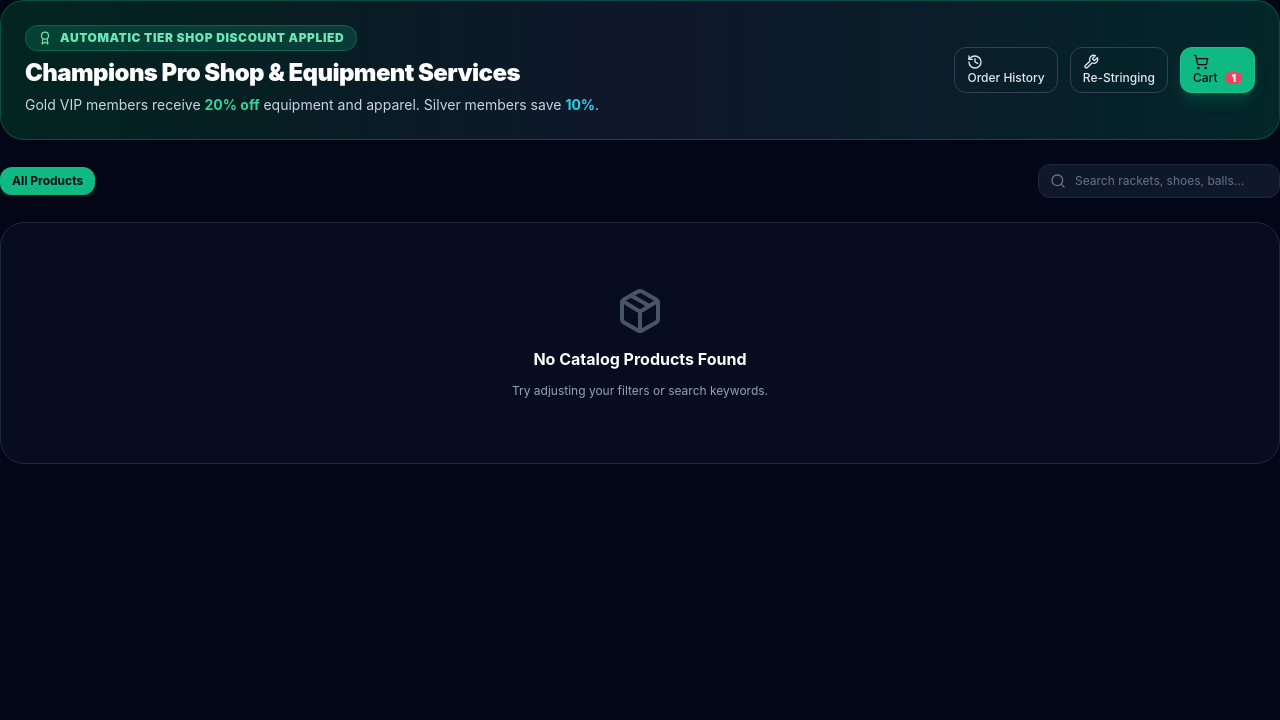
Test: Shop Orders Module Frontend Suite (PROMPT 9) › opens checkout modal and validates delivery address and pincode
Expected: the text "1" is shown, x1=1226 y1=72 x2=1242 y2=84
Step 1. Click the button with test id "open-cart-btn" → coordinates (1217, 70), box x1=1180 y1=47 x2=1255 y2=93
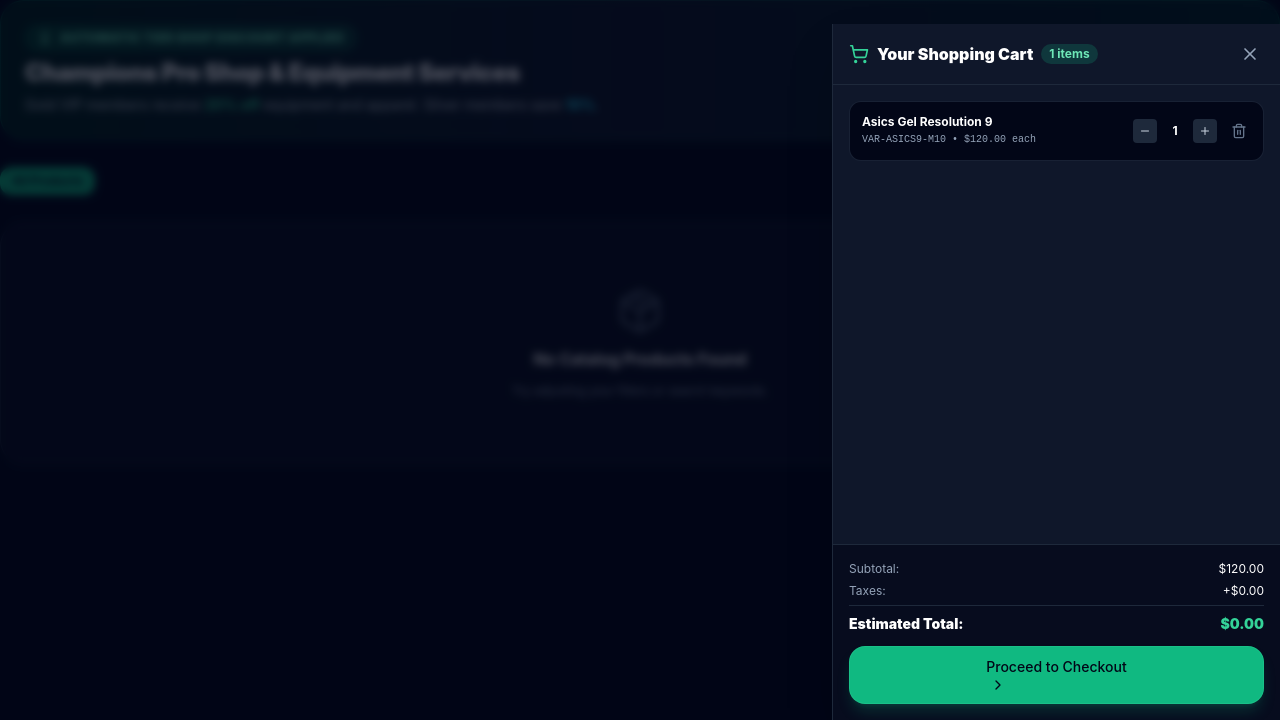
Step 2. Click the button with test id "proceed-to-checkout-btn" → coordinates (1056, 675), box x1=849 y1=646 x2=1264 y2=704
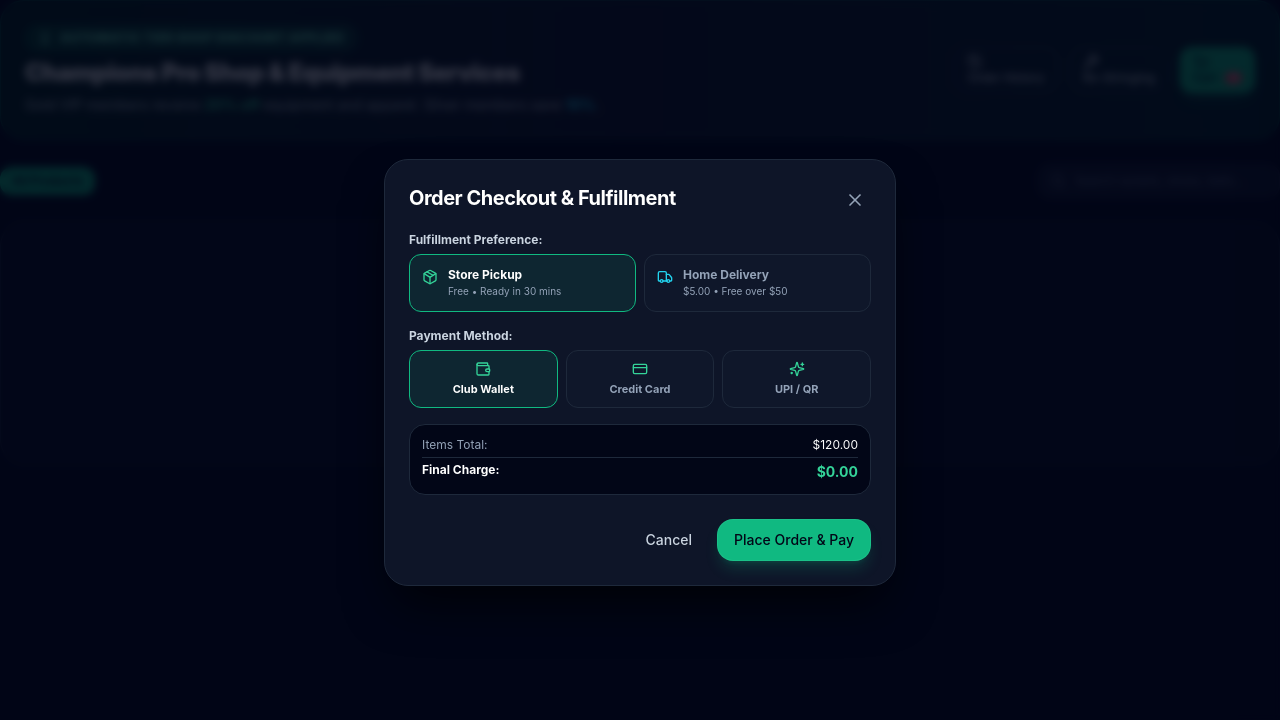
Result: the heading "Order Checkout & Fulfillment" is shown at x1=409 y1=184 x2=676 y2=212
// Switch to Home Delivery
Step 3. Click the button "Home Delivery $5.00 • Free over $50" → coordinates (758, 282), box x1=644 y1=254 x2=871 y2=312
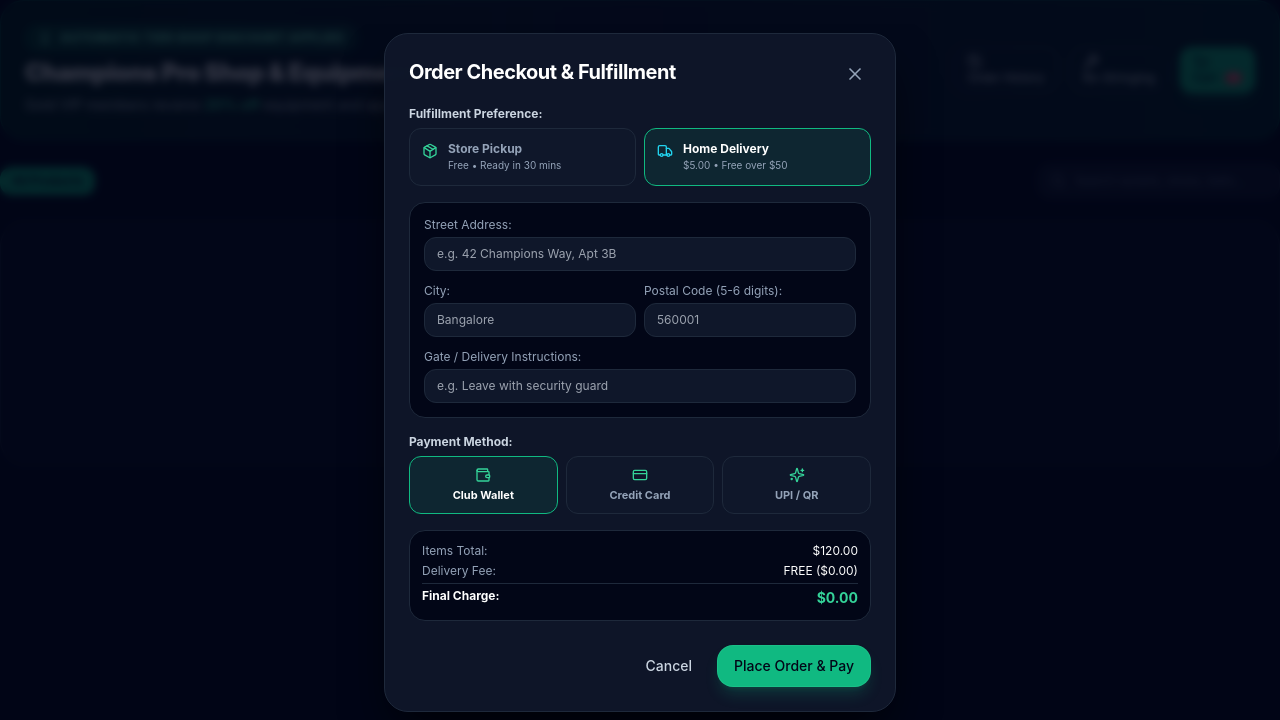
// Fill address, city, and invalid pincode
Step 4. Type "123 Court St" into the field with test id "delivery-address-input" → coordinates (640, 254), box x1=424 y1=236 x2=856 y2=270
Step 5. Type "Metropolis" into the field with test id "delivery-city-input" → coordinates (530, 320), box x1=424 y1=302 x2=636 y2=336
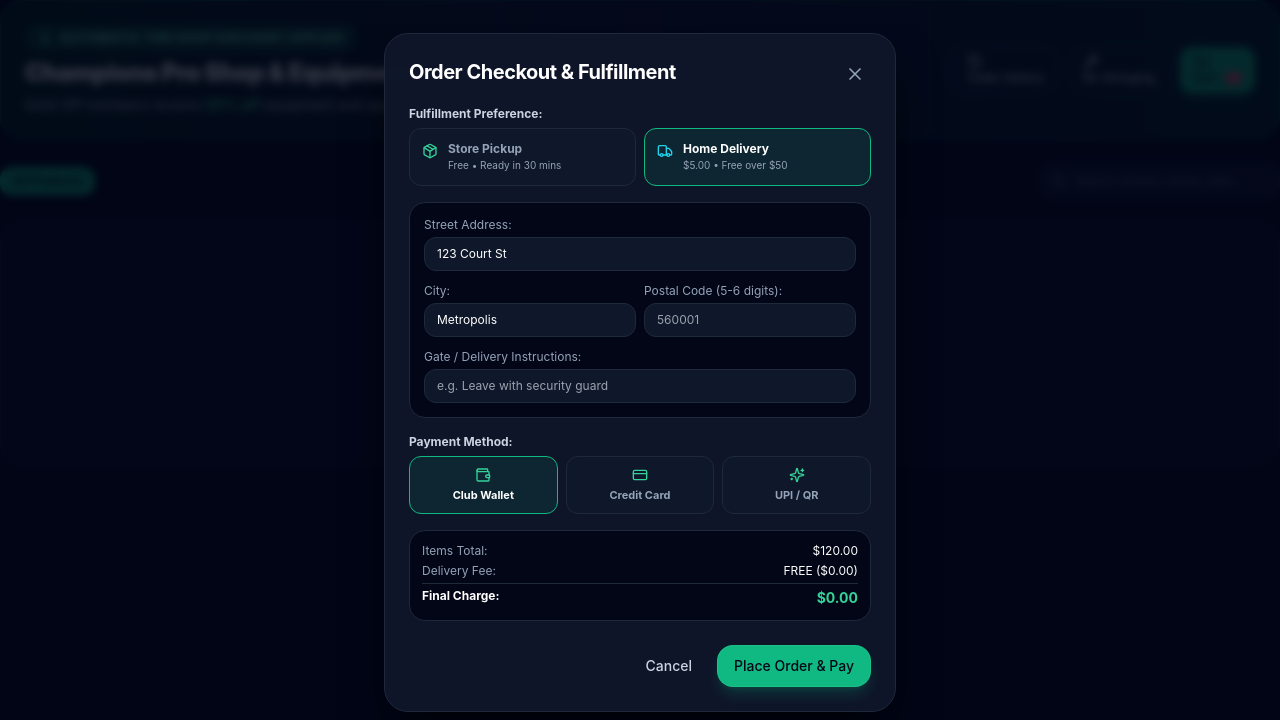
Step 6. Type "123" into the field with test id "delivery-pincode-input" → coordinates (750, 320), box x1=644 y1=302 x2=856 y2=336
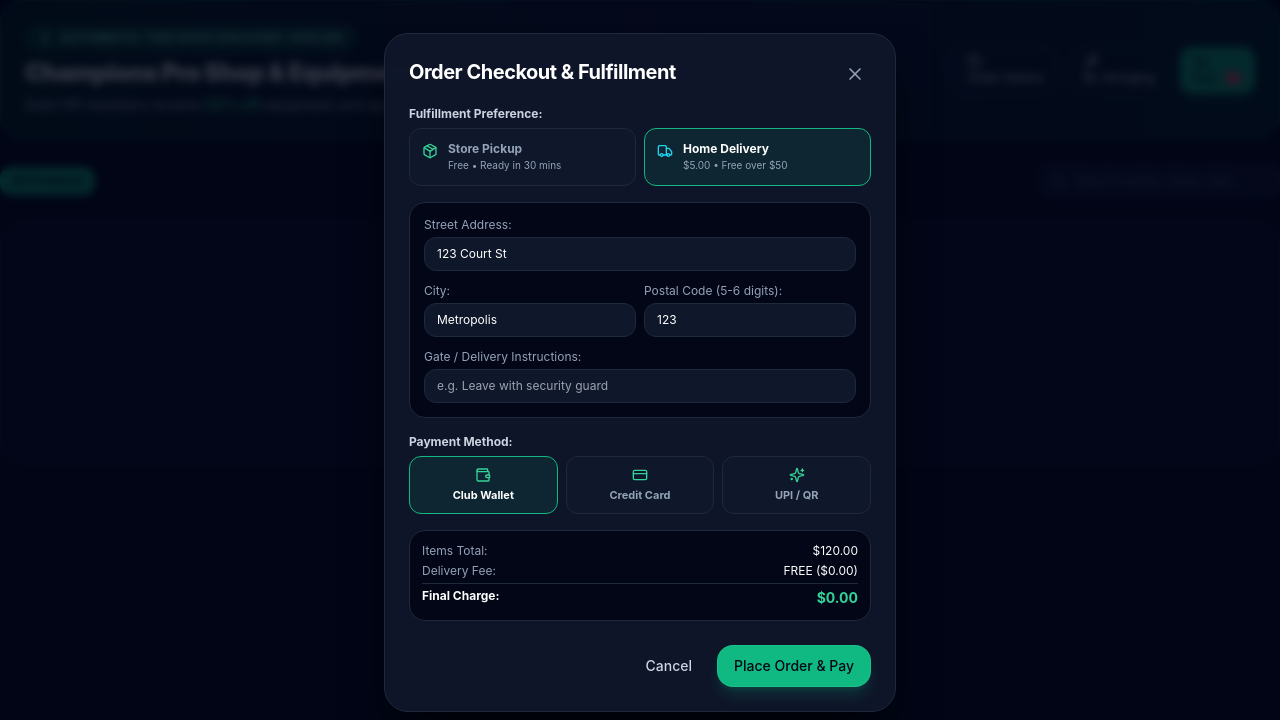
// Submit checkout
Step 7. Click the button with test id "confirm-checkout-btn" → coordinates (794, 666), box x1=717 y1=644 x2=871 y2=686
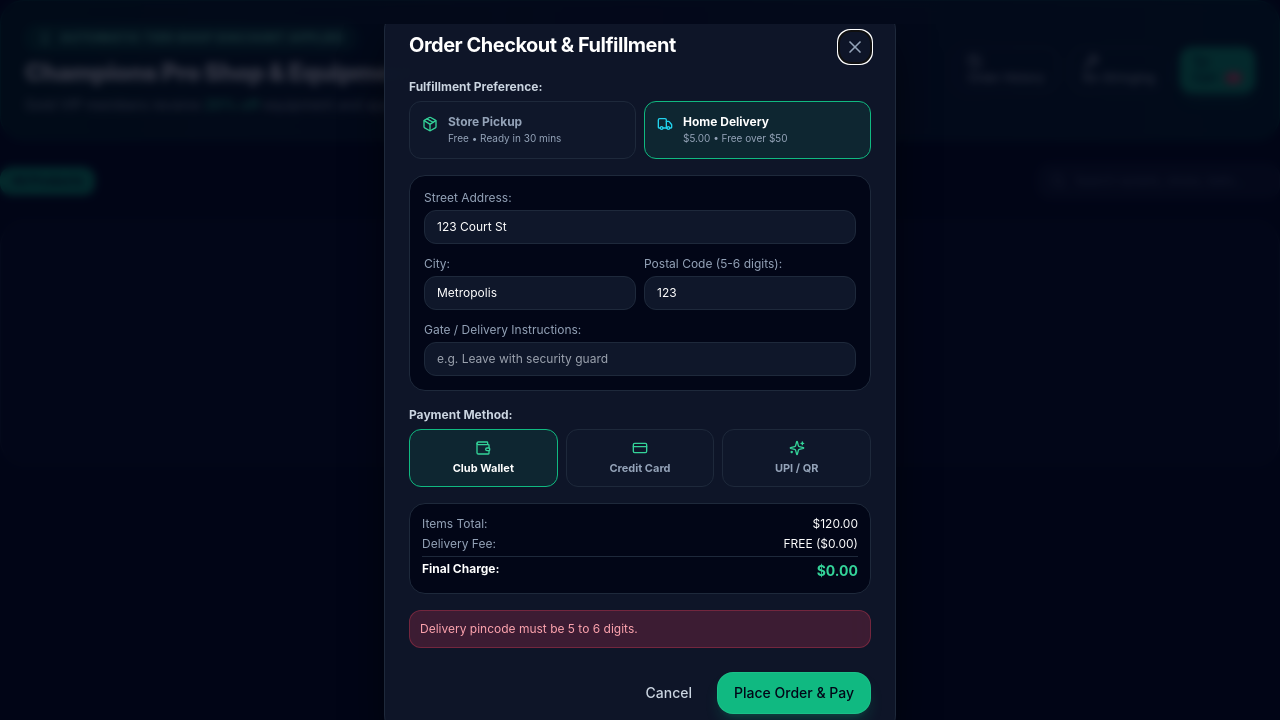
Result: the text "Delivery pincode must be 5 to 6 digits." is shown at x1=409 y1=610 x2=871 y2=648
